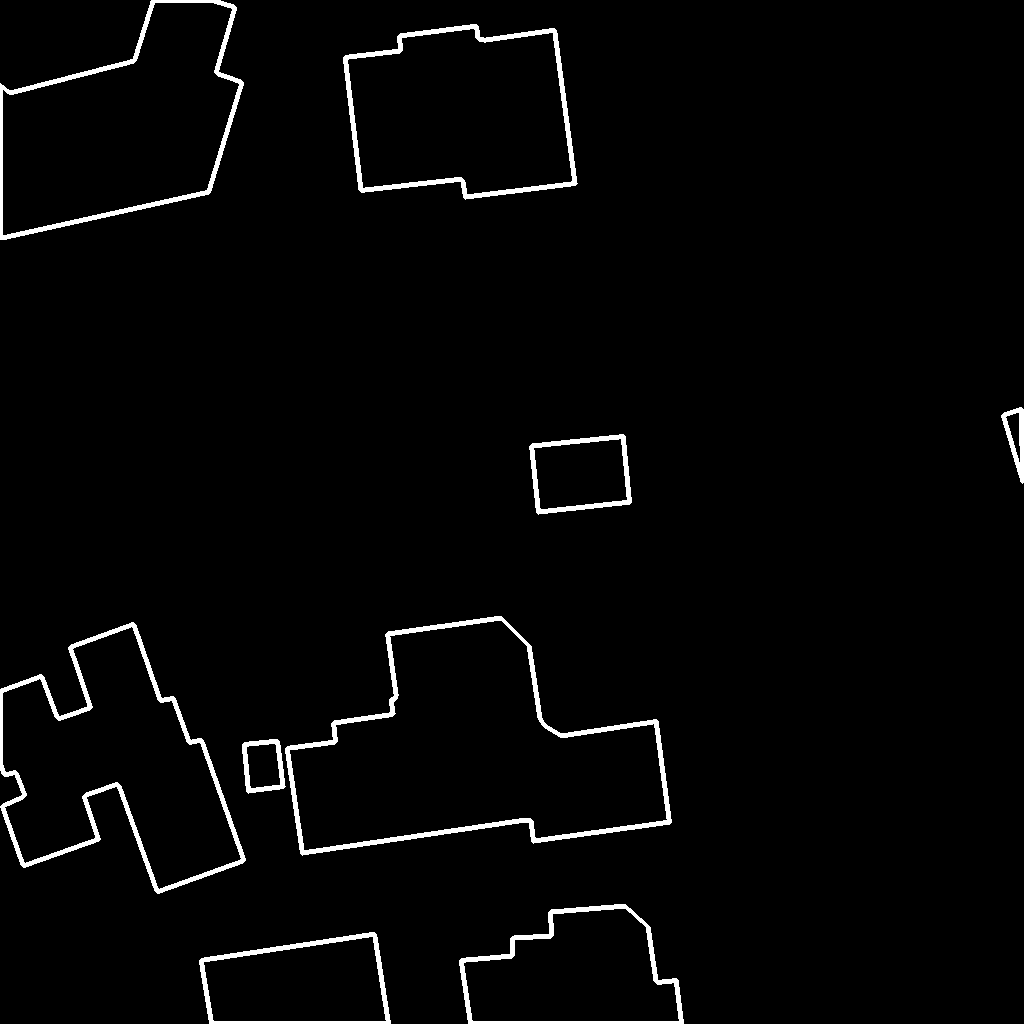building: (287, 618, 671, 854), (0, 624, 245, 893), (0, 0, 243, 239), (345, 26, 576, 198), (461, 906, 683, 1024), (201, 934, 390, 1024), (531, 436, 631, 513), (244, 741, 284, 792), (1003, 409, 1024, 484)
